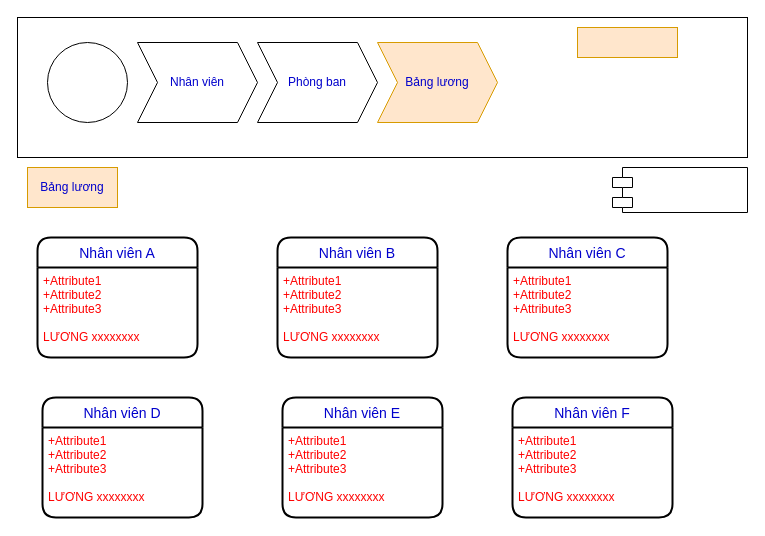
This 765x536 diagram has some shape labels left out. The centre of each missing label's shape, as x and y in pixels:
"Header" goes at point 627,42.
"Logo" goes at point 87,82.
"Sort theo tên, id...." goes at point 680,189.
